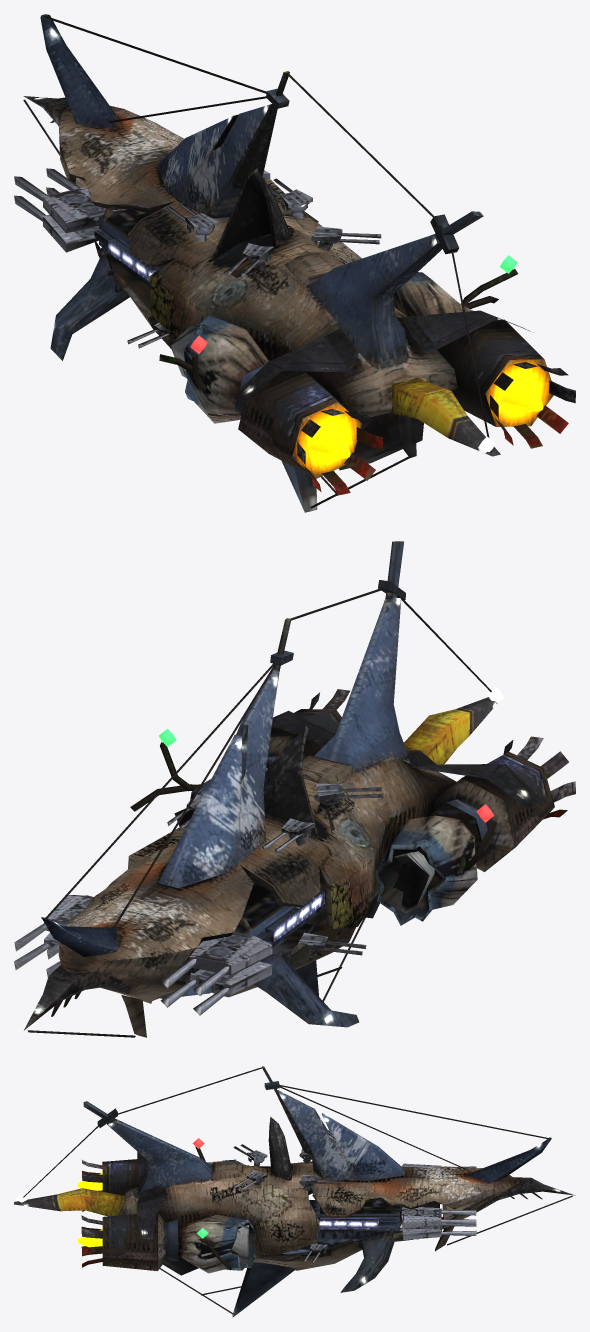
Rendered from annihilator.glb.
3 renders of one model, top to bottom at view 1: azimuth 30°, elevation 25°; view 2: azimuth 150°, elevation 25°; view 3: azimuth 270°, elevation 25°, orthographic. The views are drawn at different scales.
Parts seen in each view (by area): view 1: annihilator; view 2: annihilator; view 3: annihilator.
Boxes of the visible parts, <box> form: annihilator: <box>14,14,575,512</box>; annihilator: <box>14,541,575,1037</box>; annihilator: <box>14,1066,575,1317</box>.
Bounding box in the file's own units: 86.08 × 103 × 210.
4 materials, 1 textured.
